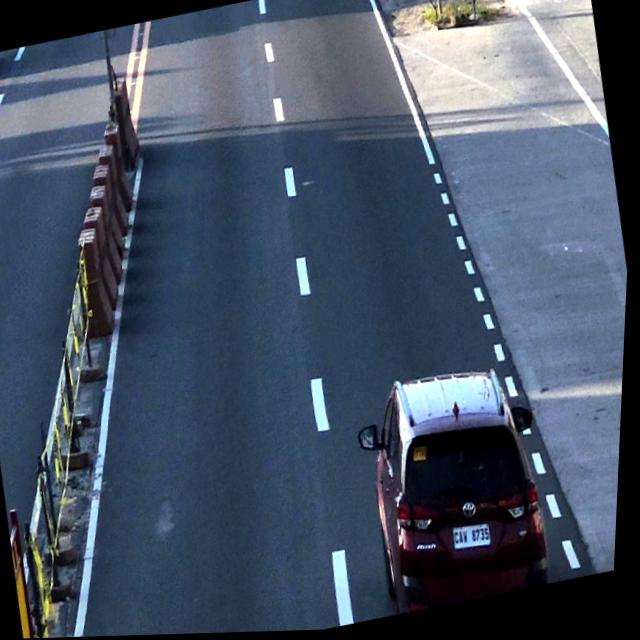Car: (348, 355, 569, 620)
License-Plate: (451, 519, 502, 560)
